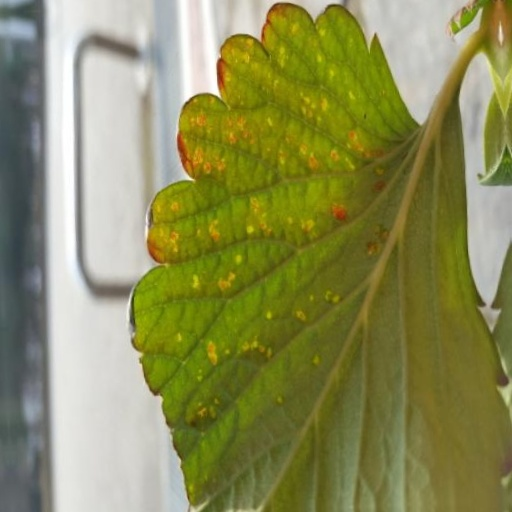Angular Leafspot: (130, 16, 402, 509)
